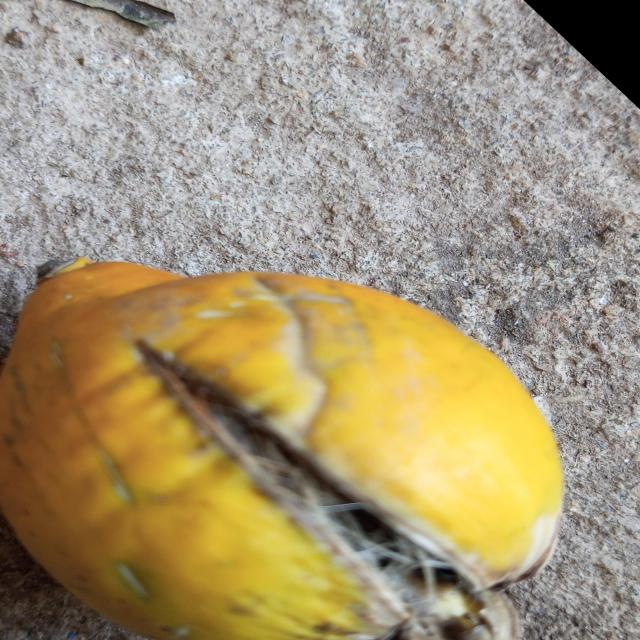damaged: (0, 263, 562, 640)
